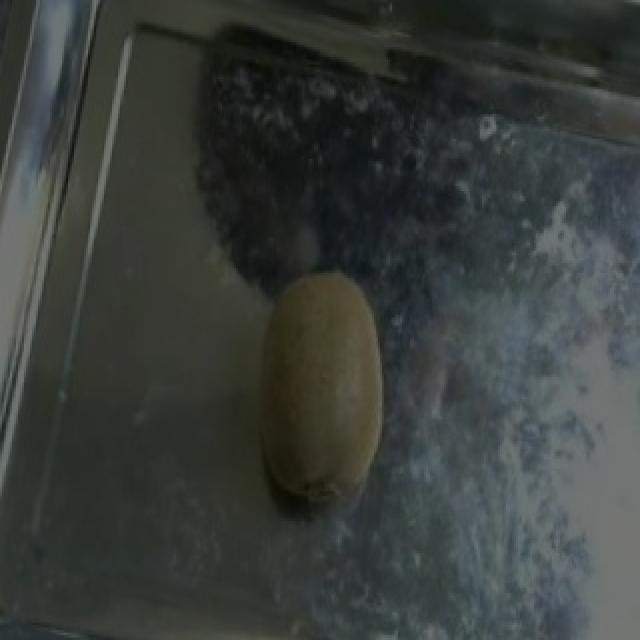Fruit: (222, 241, 418, 538)
